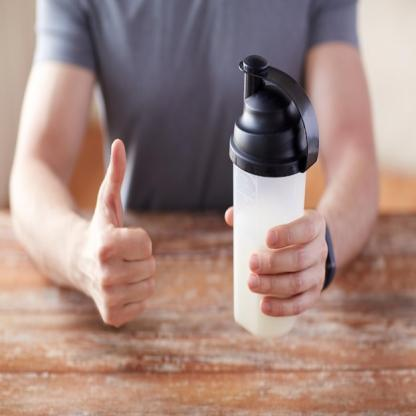thumb_up: (86, 138, 162, 332)
